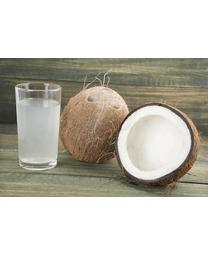coconut: (115, 102, 199, 188), (60, 86, 130, 164)
